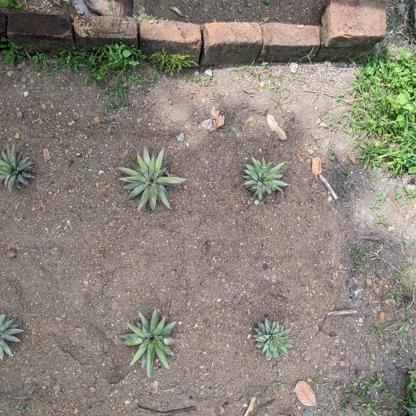pineapple: (115, 144, 189, 215), (121, 307, 180, 380), (240, 152, 291, 203), (252, 315, 294, 363), (1, 142, 36, 197), (1, 308, 24, 368)
